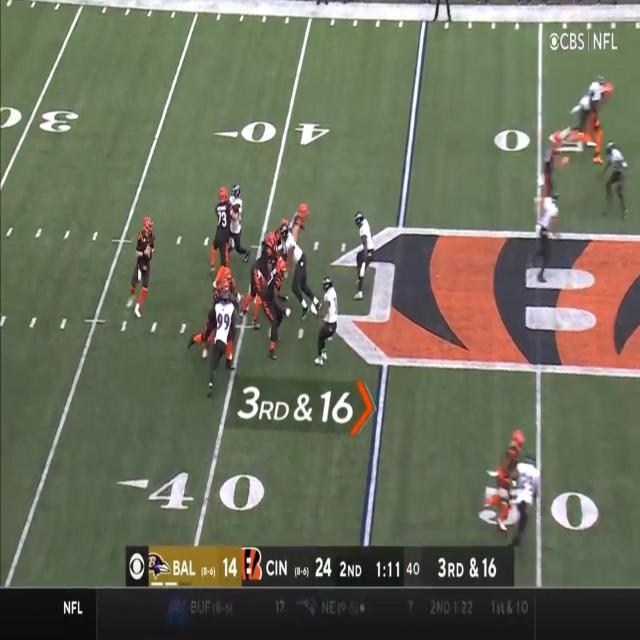Ball: (146, 244, 153, 262)
